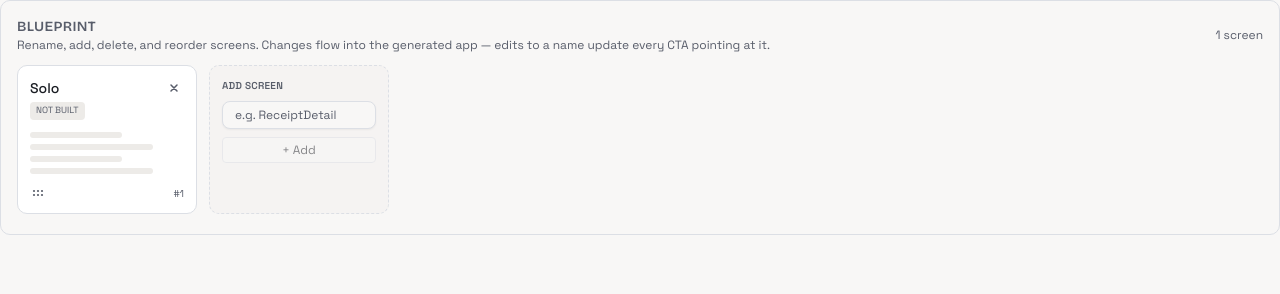
Test: BlueprintCanvas — delete › refuses to delete the last remaining screen
Click the button named "Delete Solo" at (174, 88), box [164,78,184,98]
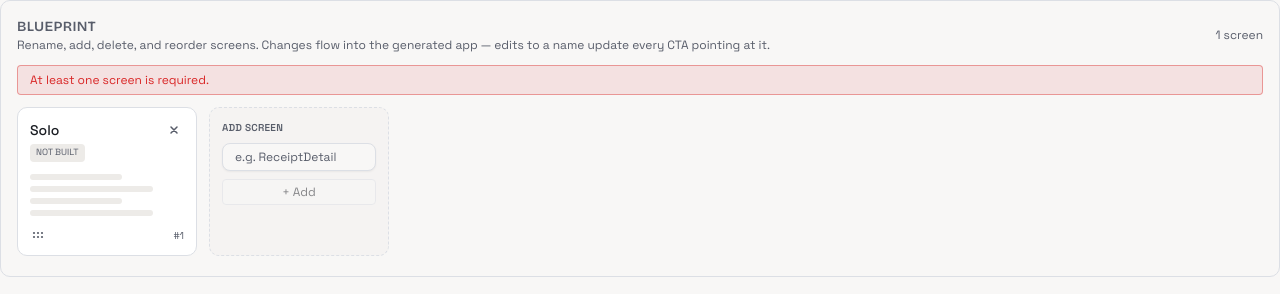
Now the text "At least one" is shown, box [30,72,209,88]
